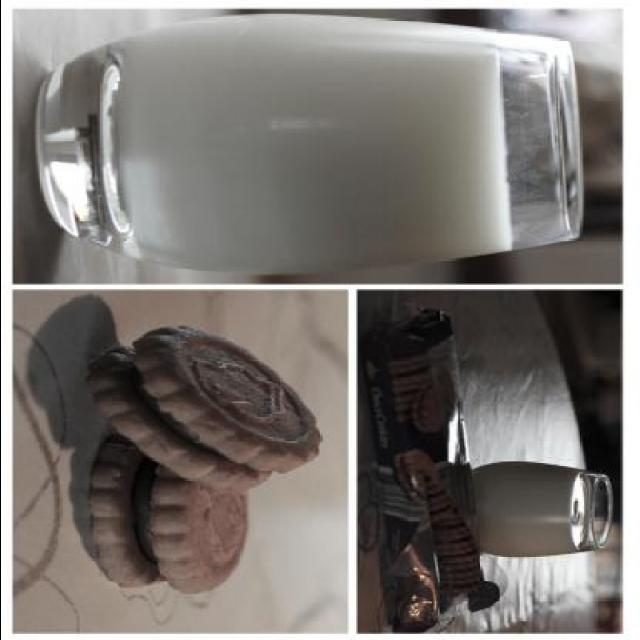Milk: (110, 11, 512, 275), (471, 459, 591, 558)
